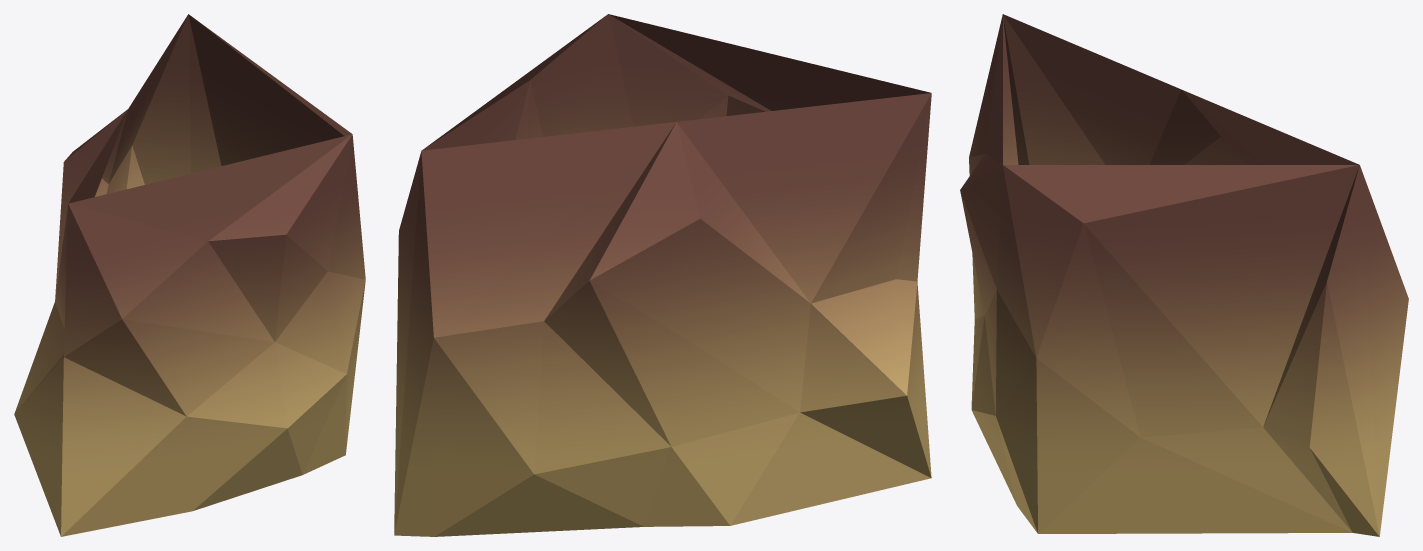
Rendered from Tringle_Cliff.fbx.
3 views of the same model, side by side, from view 1: azimuth 30°, elevation 25°; view 2: azimuth 150°, elevation 25°; view 3: azimuth 270°, elevation 25° (orthographic). The views are drawn at different scales.
Parts seen in each view (by area): view 1: Tringle_Cliff; view 2: Tringle_Cliff; view 3: Tringle_Cliff.
Boxes of the visible parts, x1,y1,x2,y2 form: Tringle_Cliff: [14, 14, 365, 536]; Tringle_Cliff: [394, 14, 931, 536]; Tringle_Cliff: [960, 14, 1408, 536].
Size of the model in its own units: 119 by 113 by 126.
